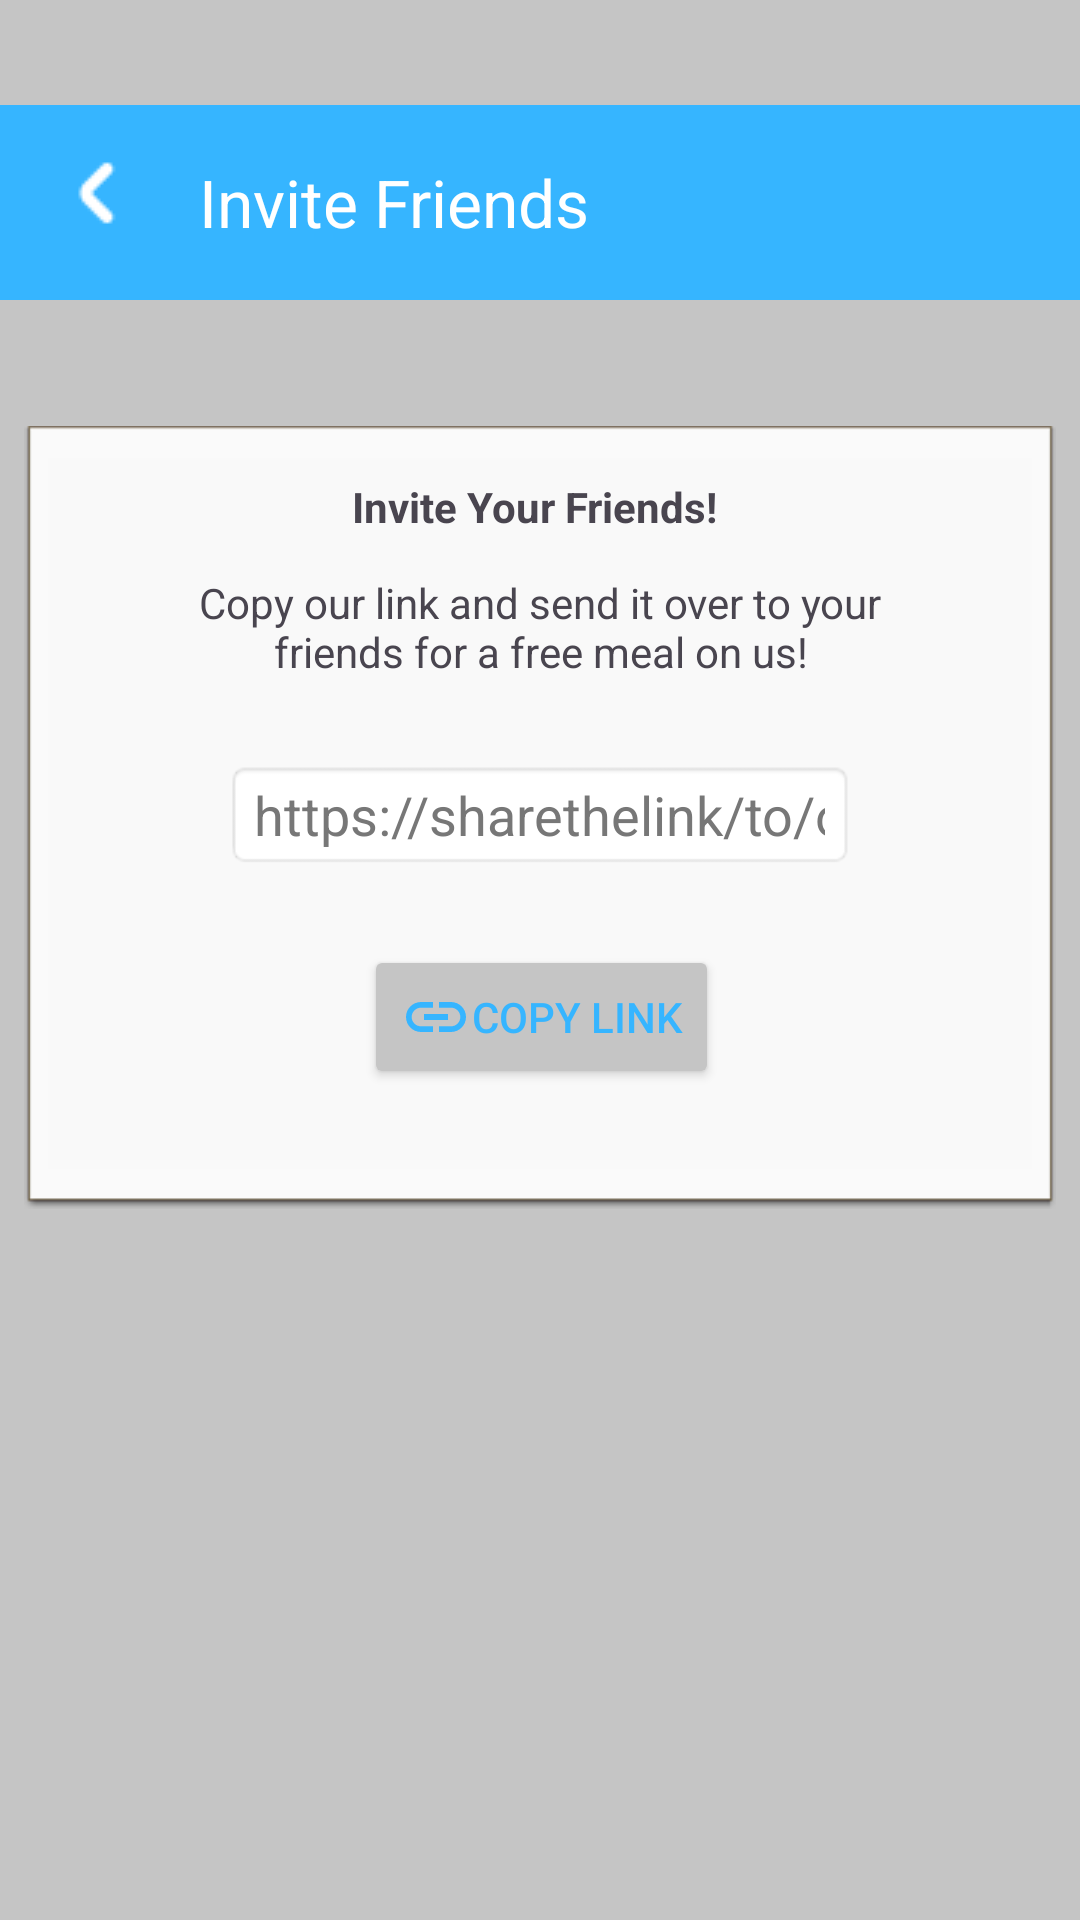

Named icons in this screenshot (1080px x 1920px) and their centers, [x,y]:
back arrow: [96,193]
